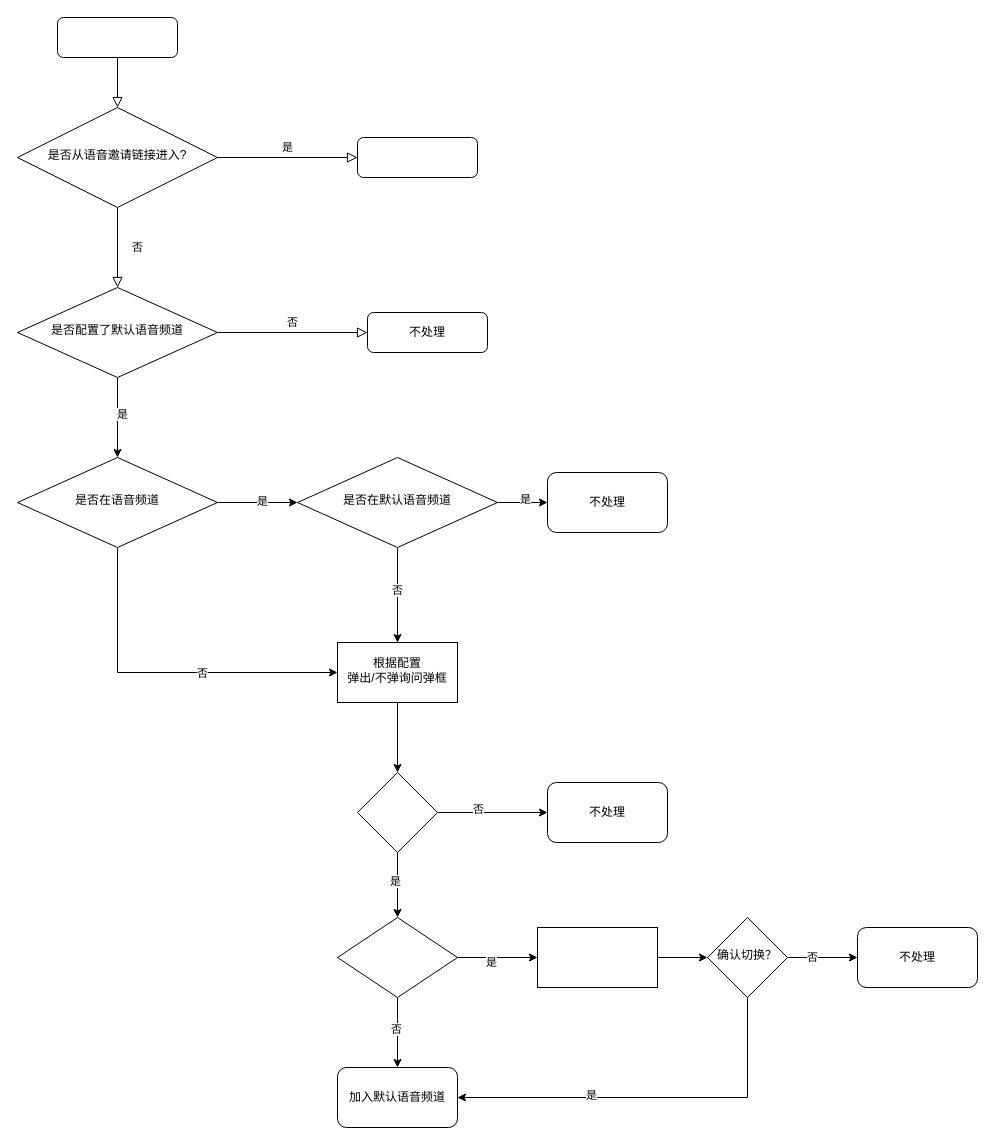
Image size: 995x1145. Some labels were removed from this diagram. Each missing label, with the centre of its shape:
"切换到运营服务器" belongs at (117,37).
"弹出切换频道弹框" belongs at (597,957).
"是否在语音频道？" belongs at (397,957).
"走语音邀请流程" belongs at (417,157).
"进入？" belongs at (397,812).
